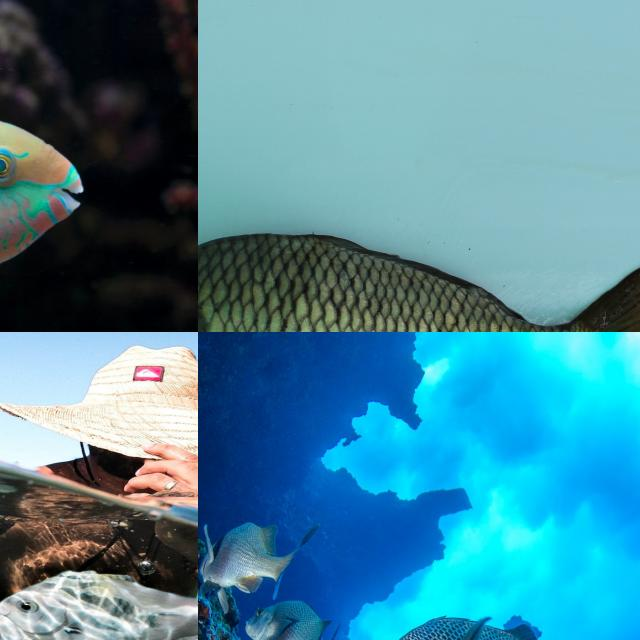fish: (0, 0, 198, 332), (0, 332, 198, 640), (198, 203, 640, 332), (198, 581, 410, 640)
